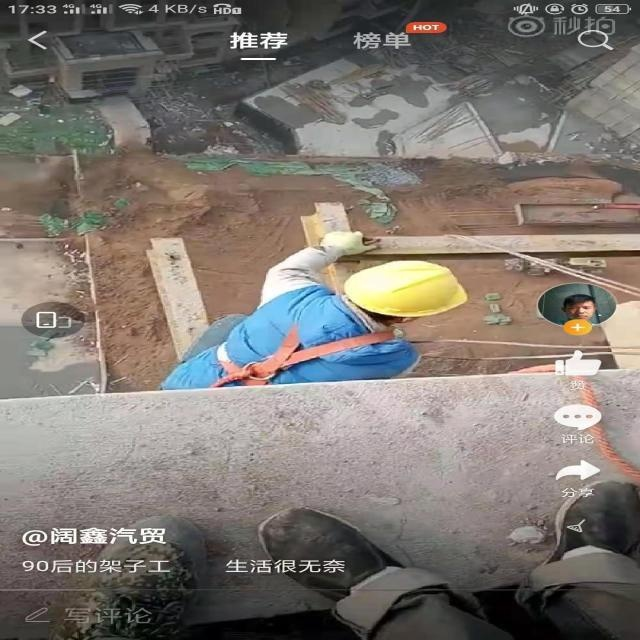Arnes_seguridad: (183, 294, 411, 387)
